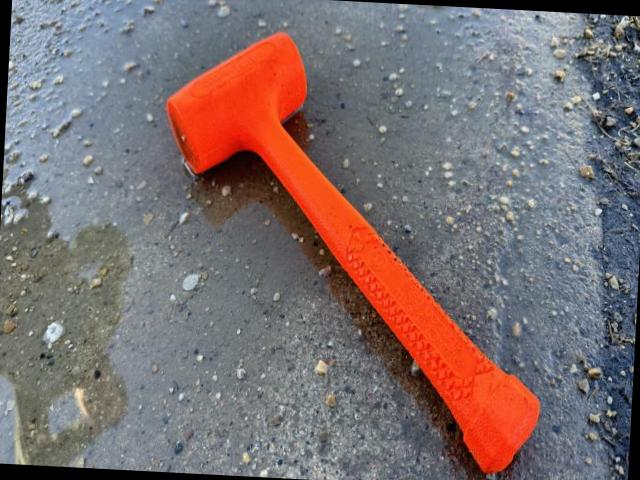hammer: (146, 26, 558, 475)
